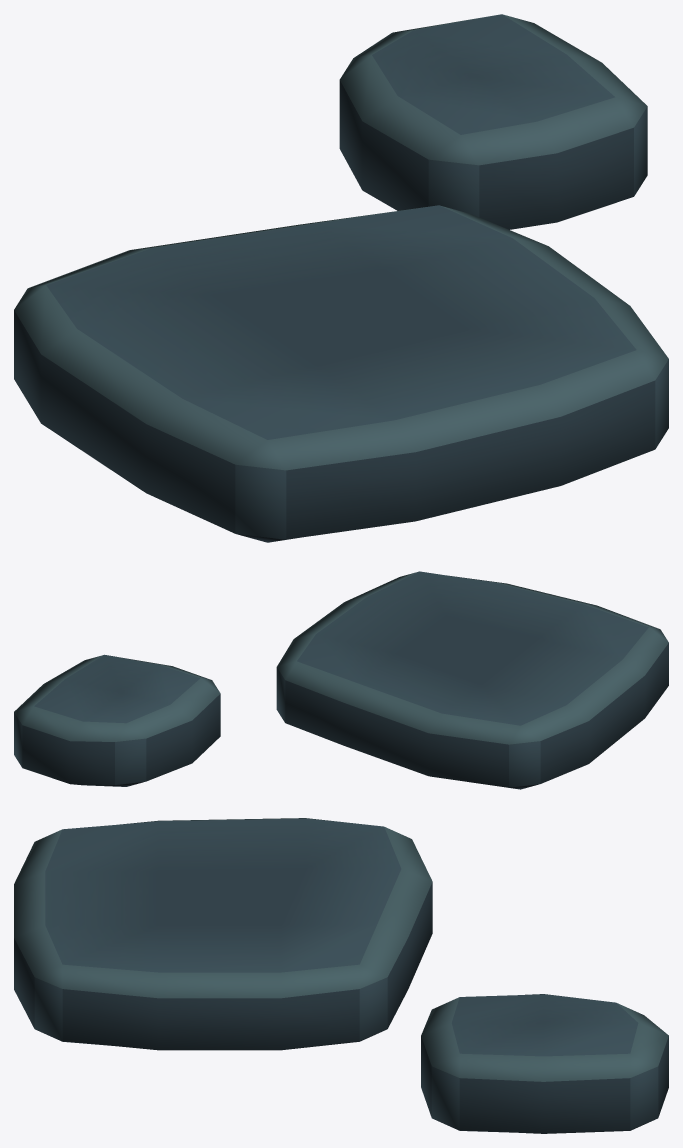
Rendered from stone_path_12_LOD_setup.fbx.
3 views of the same model, one above another, from view 1: azimuth 30°, elevation 25°; view 2: azimuth 150°, elevation 25°; view 3: azimuth 270°, elevation 25° (orthographic). The views are drawn at different scales.
Visible parts, largest first — view 1: stone_path_12_LOD0; view 2: stone_path_12_LOD0; view 3: stone_path_12_LOD0.
Part boxes in pixels (<box>): stone_path_12_LOD0: <box>14,14,668,542</box>; stone_path_12_LOD0: <box>14,571,668,789</box>; stone_path_12_LOD0: <box>14,818,668,1133</box>.
Size of what is drawn, in the model's own units: 134 by 18.28 by 141.
